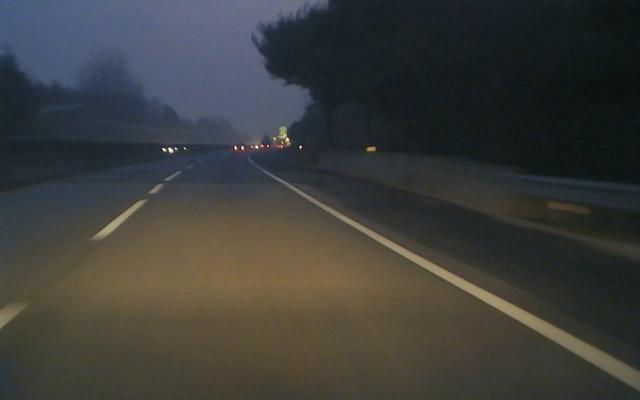lane: (283, 182, 640, 392), (88, 170, 180, 238)
